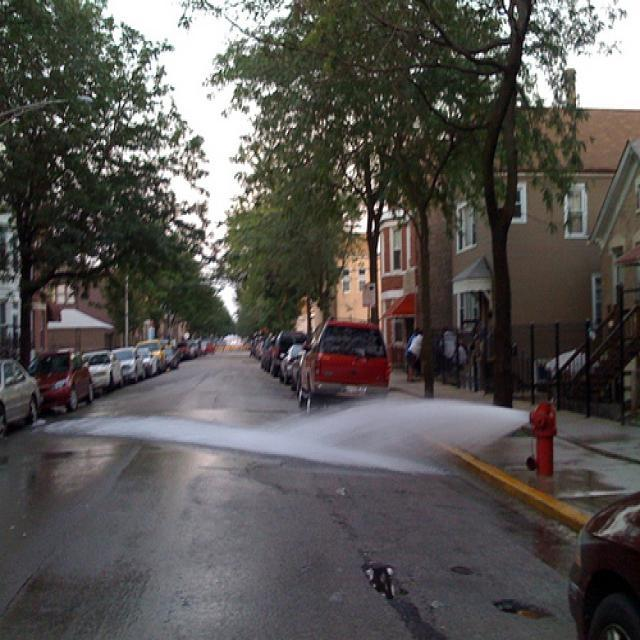fire_hydrant: (526, 398, 557, 478)
